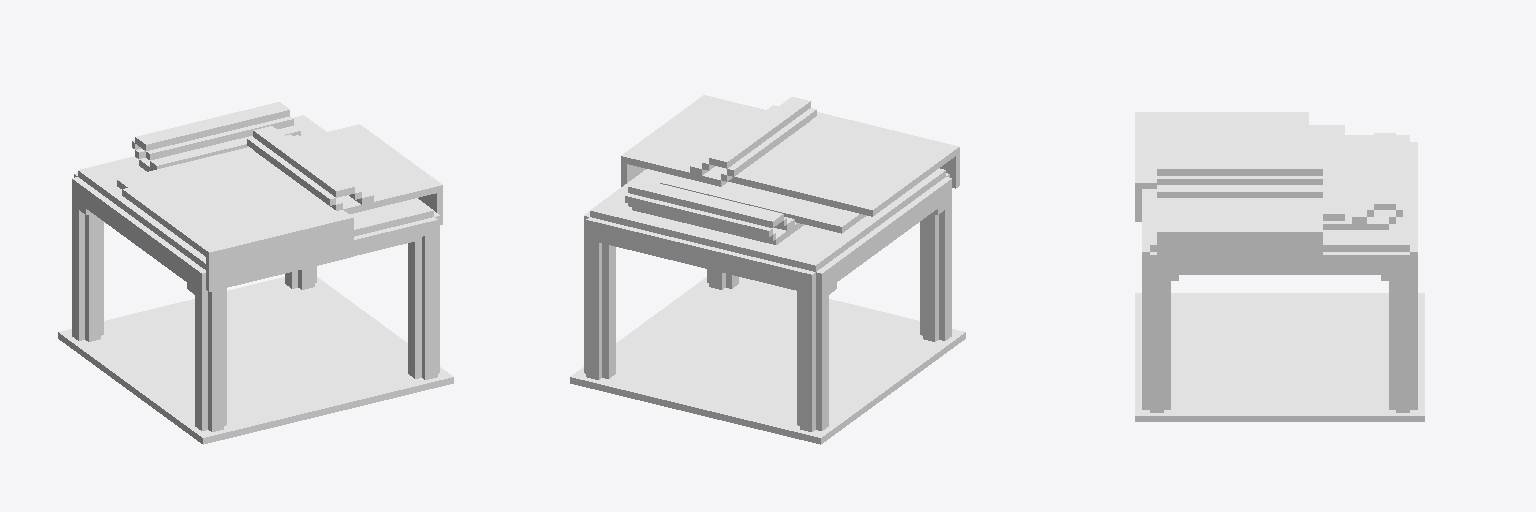
Rendered from Mesa_Jornal_3.obj.
The picture shows the model from 3 angles: view 1: azimuth 30°, elevation 25°; view 2: azimuth 150°, elevation 25°; view 3: azimuth 270°, elevation 25°; orthographic projection.
Bounding box in the file's own units: 40 × 32 × 40.